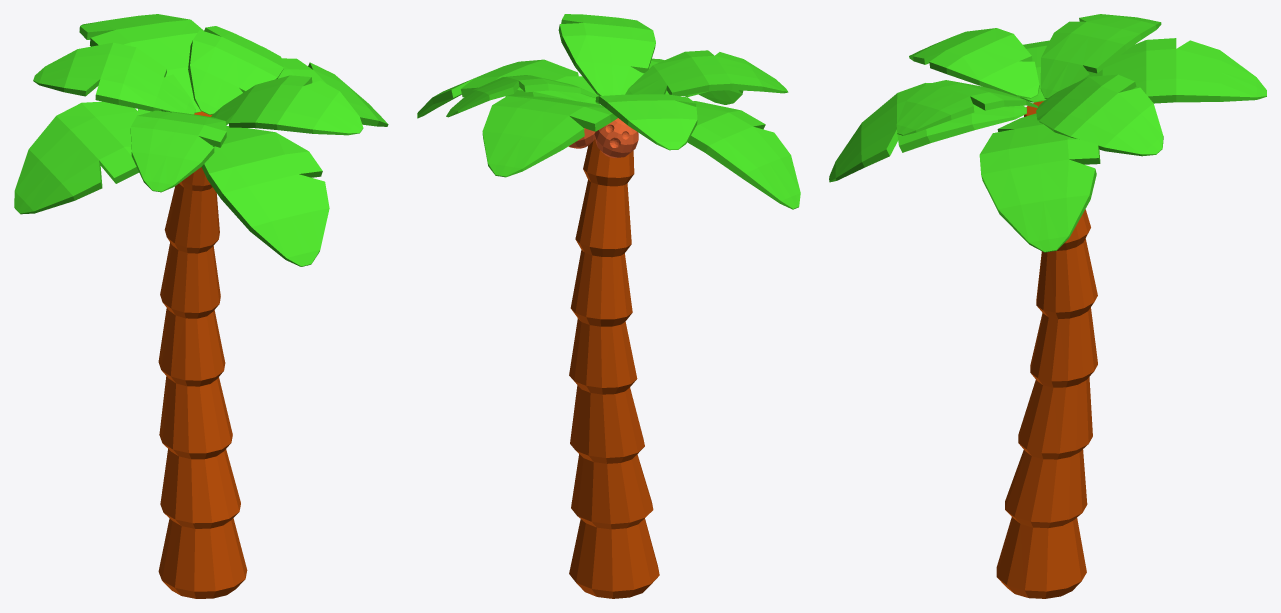
Rendered from Palm_Tree.glb.
The picture shows the model from 3 angles, left to right: view 1: azimuth 30°, elevation 25°; view 2: azimuth 150°, elevation 25°; view 3: azimuth 270°, elevation 25°; orthographic projection. The views are drawn at different scales.
Parts seen in each view (by area): view 1: Low Poly Palm Tree; view 2: Low Poly Palm Tree; view 3: Low Poly Palm Tree.
Boxes of the visible parts, x1,y1,x2,y2 form: Low Poly Palm Tree: [14, 14, 388, 598]; Low Poly Palm Tree: [417, 14, 800, 598]; Low Poly Palm Tree: [829, 14, 1266, 598].
Size of the model in its own units: 6.16 by 8.28 by 6.2.
